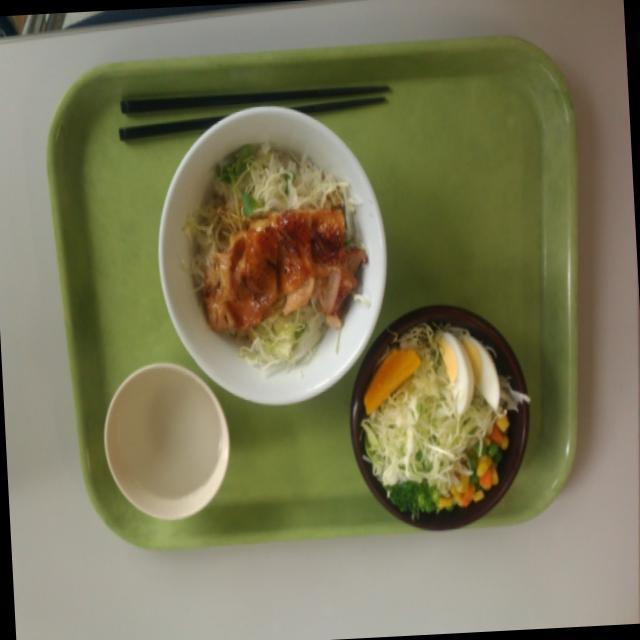Green Salad: (361, 334, 521, 534)
